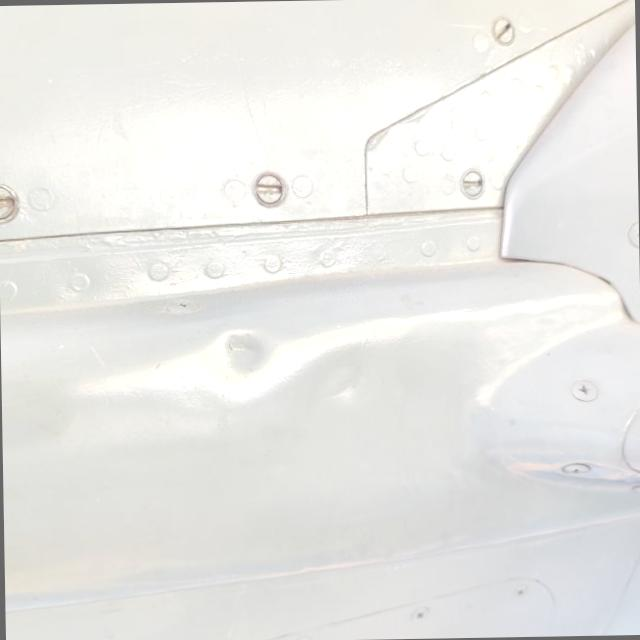dent: (194, 308, 289, 390), (308, 362, 374, 419)
